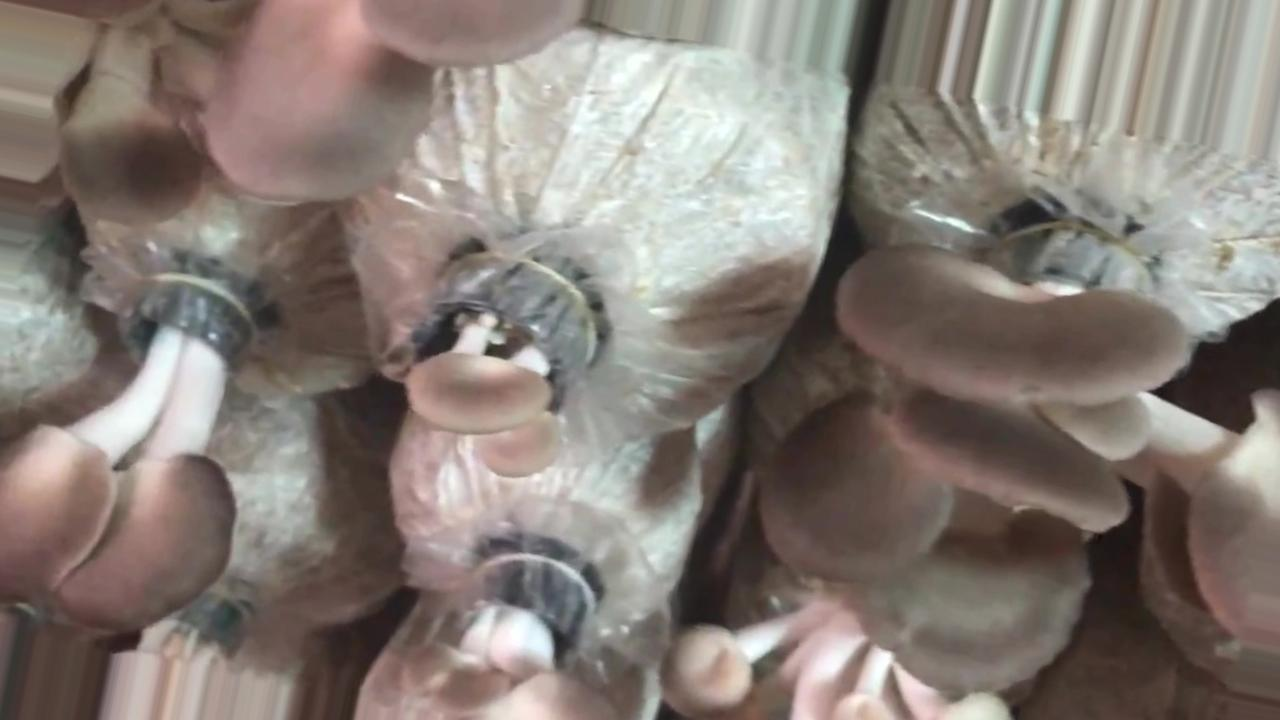nam: (764, 231, 1280, 689), (1, 8, 578, 224), (1, 275, 257, 630), (664, 599, 1003, 720), (414, 256, 589, 475), (407, 553, 617, 720)
